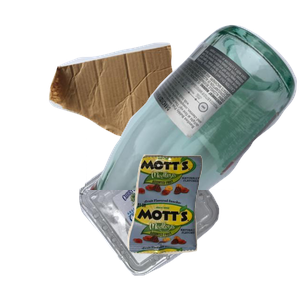cardboard: (46, 40, 226, 179)
glass: (86, 22, 300, 202)
plastic: (77, 133, 289, 300)
trash: (125, 152, 300, 300)
